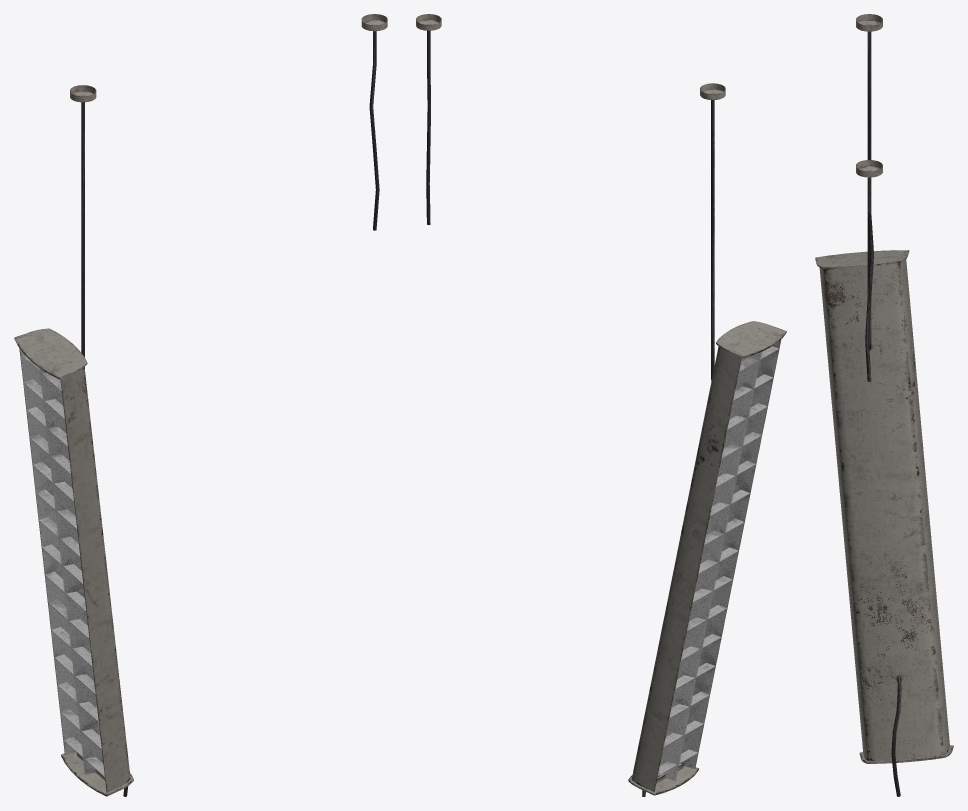
File: LampFluoHangingD.fbx
3 renders of one model, left to right at view 1: azimuth 30°, elevation 25°; view 2: azimuth 150°, elevation 25°; view 3: azimuth 270°, elevation 25°, orthographic. The views are drawn at different scales.
Visible parts, largest first — view 1: LampFluoHangingD_LOD0; view 2: LampFluoHangingD_LOD0; view 3: LampFluoHangingD_LOD0.
Part boxes in pixels (x1,y1,x2,y2): LampFluoHangingD_LOD0: [14, 14, 387, 796]; LampFluoHangingD_LOD0: [416, 14, 786, 796]; LampFluoHangingD_LOD0: [815, 14, 953, 796].
Size of what is drawn, in the model's own units: 124 by 242 by 40.64.
